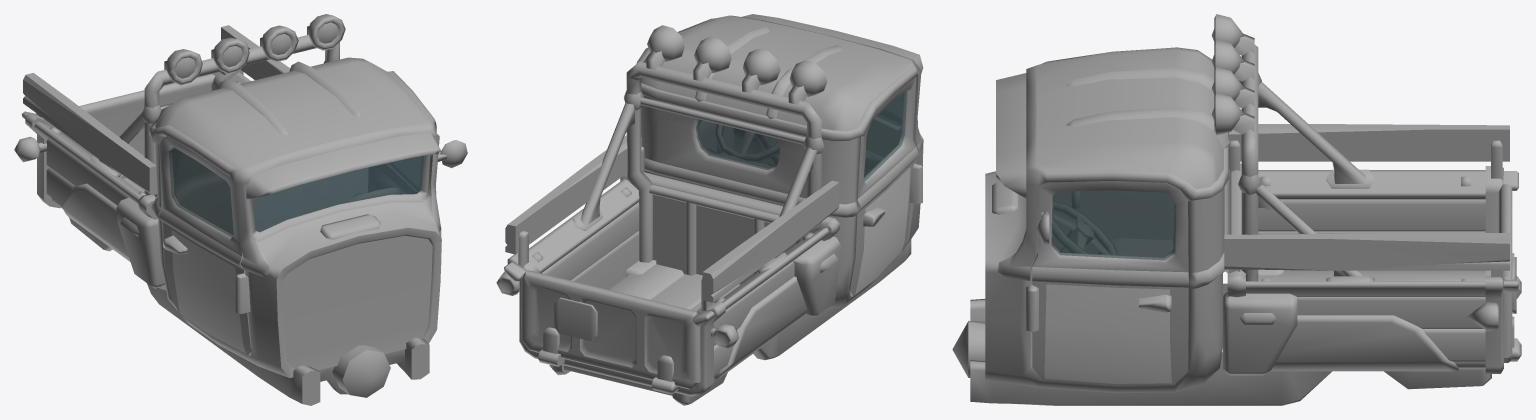
The model's file is Body_Pickupster.fbx.
The picture shows the model from 3 angles, left to right: view 1: azimuth 30°, elevation 25°; view 2: azimuth 150°, elevation 25°; view 3: azimuth 270°, elevation 25°; orthographic projection. The views are drawn at different scales.
Visible parts, largest first — view 1: Pickupster_Body_Mesh, Pickupster_Body_Rollbar_Mesh, Pickupster_Body_Trunk_Sides_Mesh, Pickupster_Body_Window_Mesh, Pickupster_Body_Door_Right_Mesh, Pickupster_Body_Door_Right_Decal_Mesh, Pickupster_Body_Door_Right_Window_Mesh, Pickupster_Body_BackHatch_Mesh, Pickupster_Body_Door_Left_Mesh, Pickupster_Body_Door_Left_Window_Mesh; view 2: Pickupster_Body_Mesh, Pickupster_Body_Rollbar_Mesh, Pickupster_Body_BackHatch_Mesh, Pickupster_Body_Trunk_Sides_Mesh, Pickupster_Body_Door_Right_Mesh, Pickupster_Body_Door_Right_Decal_Mesh, Pickupster_Body_Window_Mesh, Pickupster_Body_Door_Right_Window_Mesh, Body_SteerWheel_Mesh, Pickupster_Body_Door_Left_Mesh; view 3: Pickupster_Body_Mesh, Pickupster_Body_Trunk_Sides_Mesh, Pickupster_Body_Door_Left_Mesh, Pickupster_Body_Door_Left_Decal_Mesh, Pickupster_Body_Rollbar_Mesh, Pickupster_Body_Door_Left_Window_Mesh, Pickupster_Body_Door_Right_Mesh, Body_SteerWheel_Mesh, Pickupster_Body_BackHatch_Mesh.
Boxes of the visible parts, bbox=[...] form: Pickupster_Body_Mesh: bbox=[14, 57, 441, 405]; Pickupster_Body_Rollbar_Mesh: bbox=[90, 14, 345, 194]; Pickupster_Body_Trunk_Sides_Mesh: bbox=[23, 25, 290, 196]; Pickupster_Body_Window_Mesh: bbox=[252, 155, 423, 232]; Pickupster_Body_Door_Right_Mesh: bbox=[159, 136, 251, 355]; Pickupster_Body_Door_Right_Decal_Mesh: bbox=[171, 230, 245, 353]; Pickupster_Body_Door_Right_Window_Mesh: bbox=[169, 147, 233, 237]; Pickupster_Body_BackHatch_Mesh: bbox=[61, 73, 215, 157]; Pickupster_Body_Door_Left_Mesh: bbox=[368, 140, 467, 194]; Pickupster_Body_Door_Left_Window_Mesh: bbox=[389, 157, 420, 189]; Pickupster_Body_Mesh: bbox=[496, 14, 923, 405]; Pickupster_Body_Rollbar_Mesh: bbox=[572, 25, 827, 276]; Pickupster_Body_BackHatch_Mesh: bbox=[521, 270, 700, 389]; Pickupster_Body_Trunk_Sides_Mesh: bbox=[505, 135, 839, 311]; Pickupster_Body_Door_Right_Mesh: bbox=[849, 77, 919, 296]; Pickupster_Body_Door_Right_Decal_Mesh: bbox=[855, 167, 910, 294]; Pickupster_Body_Window_Mesh: bbox=[696, 94, 902, 169]; Pickupster_Body_Door_Right_Window_Mesh: bbox=[863, 90, 906, 181]; Body_SteerWheel_Mesh: bbox=[715, 124, 779, 165]; Pickupster_Body_Door_Left_Mesh: bbox=[699, 120, 735, 154]; Pickupster_Body_Mesh: bbox=[952, 47, 1521, 405]; Pickupster_Body_Trunk_Sides_Mesh: bbox=[1224, 124, 1509, 278]; Pickupster_Body_Door_Left_Mesh: bbox=[1032, 181, 1188, 385]; Pickupster_Body_Door_Left_Decal_Mesh: bbox=[1044, 284, 1171, 383]; Pickupster_Body_Rollbar_Mesh: bbox=[1211, 14, 1374, 281]; Pickupster_Body_Door_Left_Window_Mesh: bbox=[1051, 190, 1175, 260]; Pickupster_Body_Door_Right_Mesh: bbox=[1052, 190, 1173, 253]; Body_SteerWheel_Mesh: bbox=[1052, 201, 1117, 254]; Pickupster_Body_BackHatch_Mesh: bbox=[1498, 184, 1516, 362].
Bounding box in the file's own units: 179 × 194 × 307.
